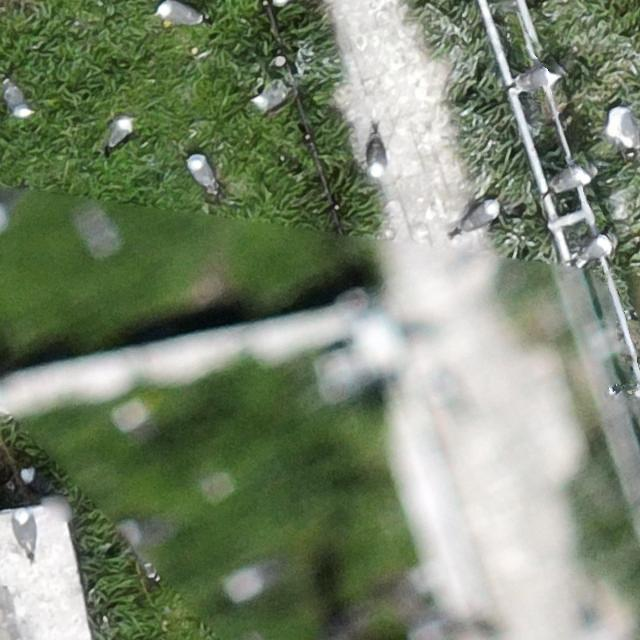umineko: (251, 76, 290, 115), (9, 506, 37, 558), (518, 67, 560, 88), (158, 4, 198, 24), (189, 157, 213, 188), (579, 234, 609, 258), (466, 202, 496, 226), (6, 85, 29, 116), (554, 168, 588, 188), (110, 117, 131, 145), (368, 141, 384, 175), (23, 469, 47, 489), (139, 560, 157, 582)
